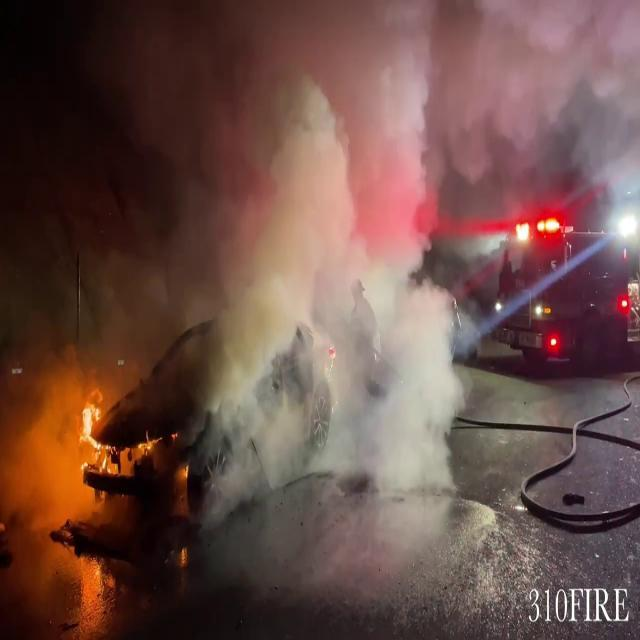Fire: (66, 390, 114, 480)
Smoke: (1, 2, 478, 562)
